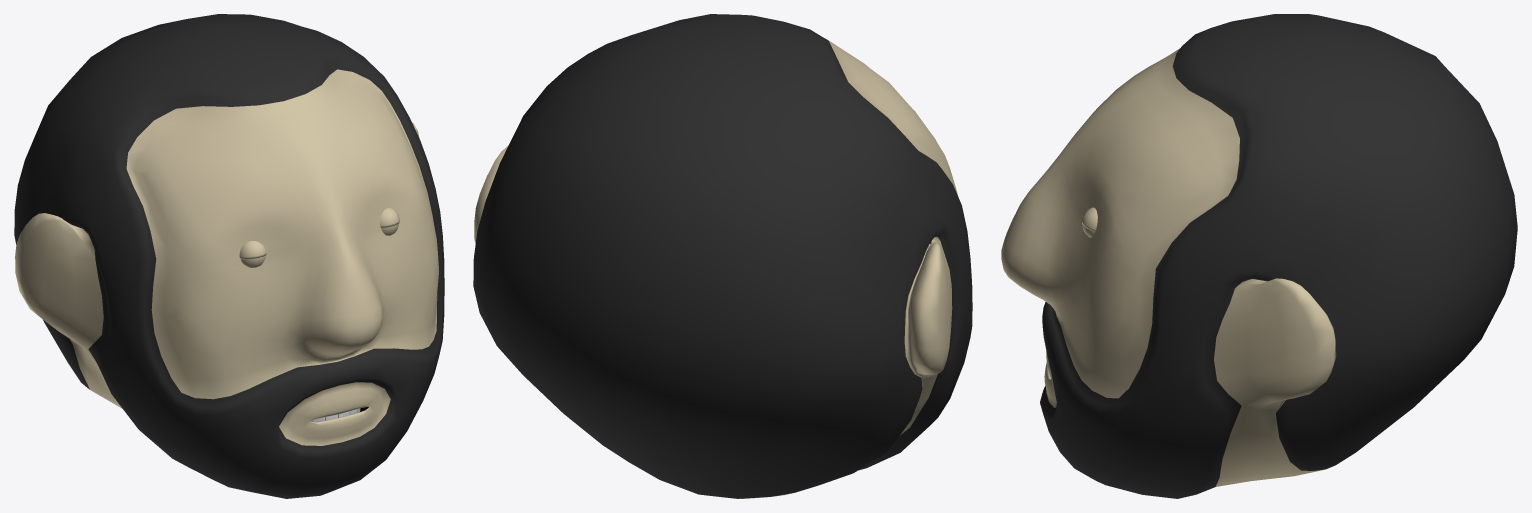
Rendered from tostehead.dae.
3 views of the same model, side by side, from view 1: azimuth 30°, elevation 25°; view 2: azimuth 150°, elevation 25°; view 3: azimuth 270°, elevation 25° (orthographic). The views are drawn at different scales.
Parts seen in each view (by area): view 1: tostehead; view 2: tostehead; view 3: tostehead.
Boxes of the visible parts, x1=… form: tostehead: x1=14, y1=14, x2=444, y2=498; tostehead: x1=473, y1=14, x2=972, y2=498; tostehead: x1=1001, y1=14, x2=1517, y2=498.
Size of the model in its own units: 73.07 by 71.06 by 75.8.
